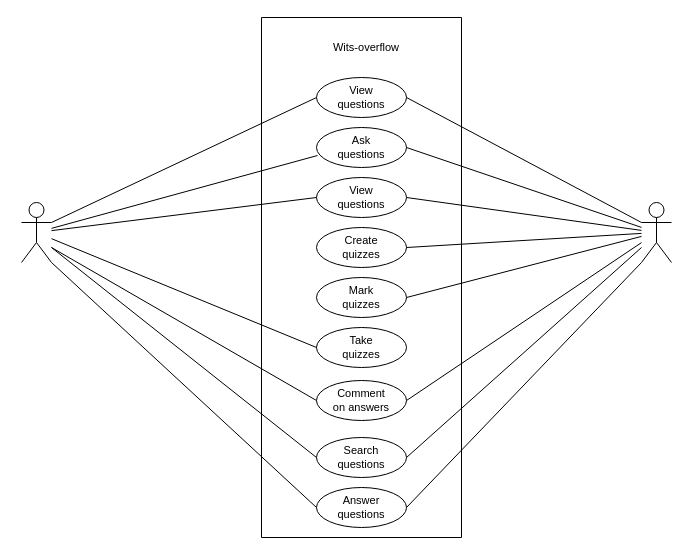
Image size: 693x555. Some labels were removed from this diagram. The shapes that lost their labels are listed below. From the top down, each one's centre as x and y in pixels, then its label:
At (x=36, y=232): "Student".
At (x=656, y=232): "Teacher".
